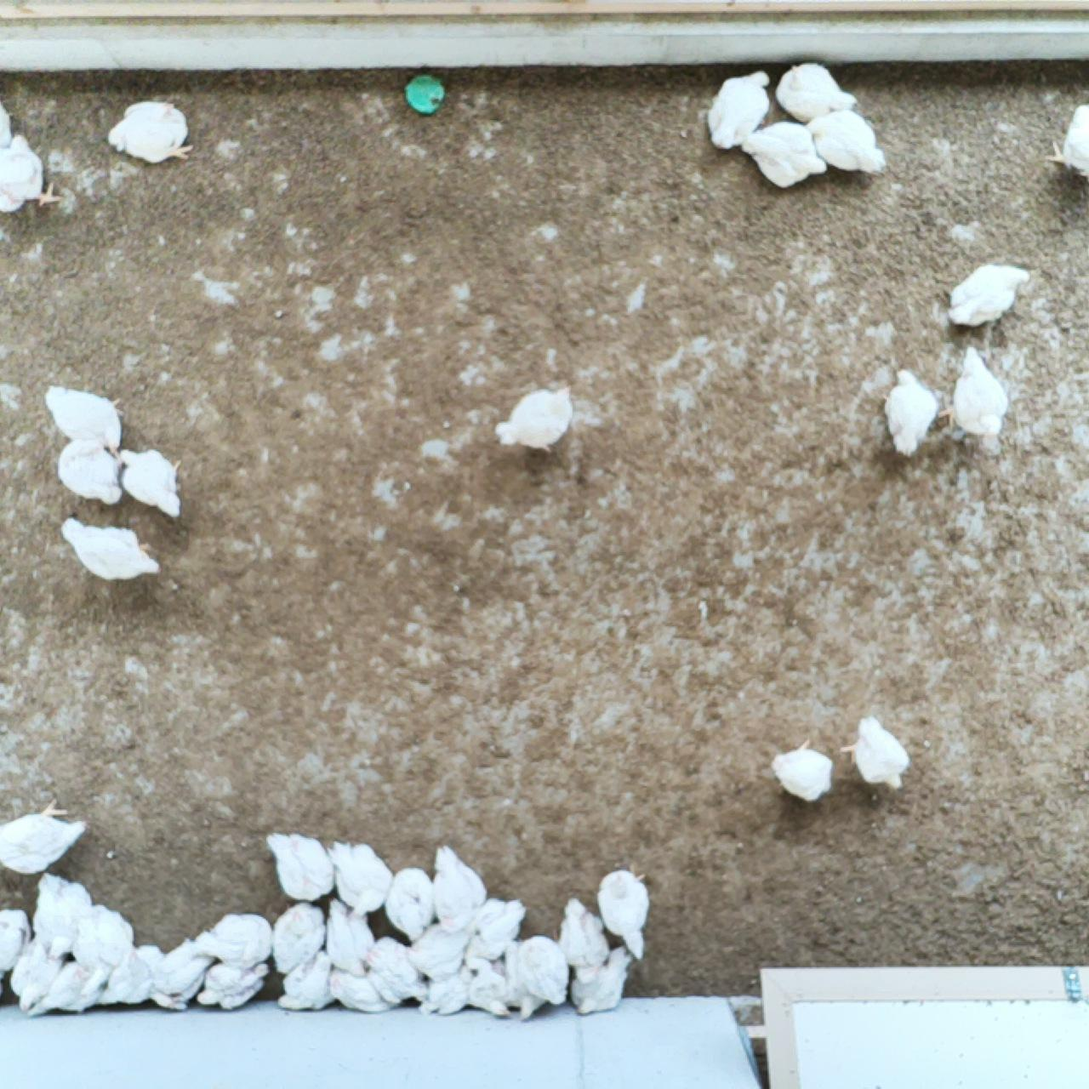chicken: (55, 513, 164, 583), (936, 346, 1016, 440), (0, 795, 90, 878), (593, 860, 663, 965), (738, 112, 831, 190), (488, 385, 587, 458), (942, 257, 1035, 332), (104, 97, 200, 165), (43, 382, 131, 456), (68, 901, 135, 998), (801, 106, 892, 177), (836, 711, 912, 793), (428, 840, 490, 940), (878, 365, 942, 461), (706, 66, 772, 157), (324, 836, 394, 921), (264, 827, 338, 907), (0, 131, 65, 220), (773, 60, 860, 126), (113, 443, 185, 521), (51, 435, 125, 510), (148, 935, 217, 1014), (30, 871, 94, 956), (191, 906, 279, 966), (557, 895, 612, 988), (363, 932, 432, 1006), (321, 892, 378, 980), (569, 941, 634, 1018), (26, 962, 109, 1022), (268, 897, 328, 979), (194, 954, 277, 1013), (462, 892, 531, 962), (508, 934, 573, 1008), (768, 736, 838, 803), (379, 860, 436, 942), (404, 917, 475, 981), (101, 940, 166, 1009), (274, 944, 336, 1016), (9, 938, 67, 1014), (325, 962, 400, 1017), (1042, 99, 1089, 181), (465, 955, 515, 1020), (415, 967, 474, 1021), (0, 906, 32, 990)
